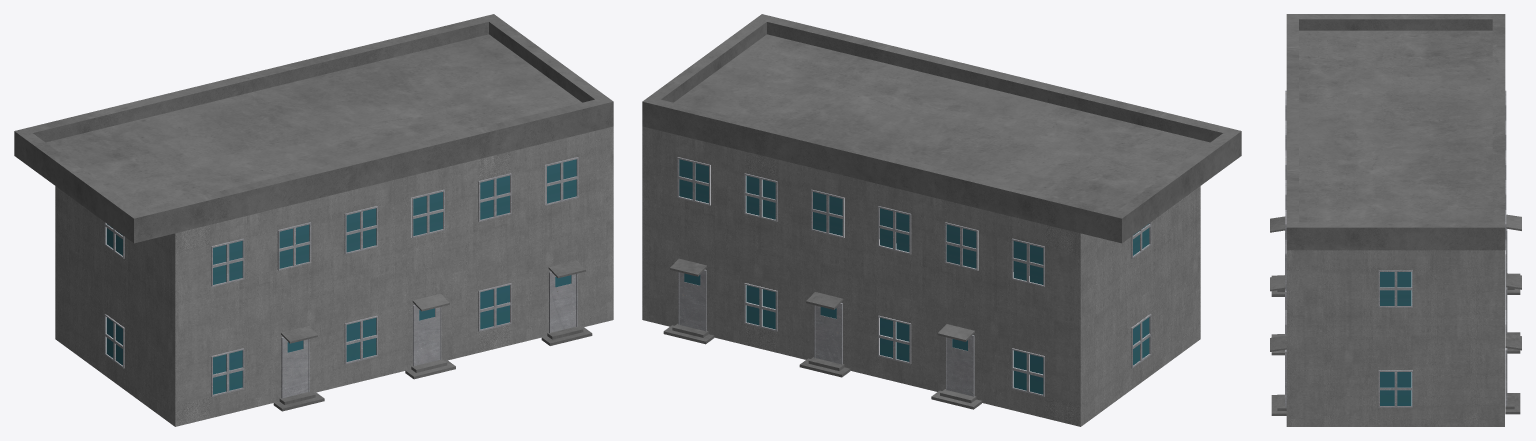
Rendered from 电控楼.glb.
3 views of the same model, side by side, from view 1: azimuth 30°, elevation 25°; view 2: azimuth 150°, elevation 25°; view 3: azimuth 270°, elevation 25° (orthographic). The views are drawn at different scales.
Visible parts, largest first — view 1: 电控楼01, 电控楼00, 电控楼02, 电控楼03; view 2: 电控楼01, 电控楼00, 电控楼02, 电控楼03; view 3: 电控楼00, 电控楼01, 电控楼02, 电控楼03.
Part boxes in pixels (x1,y1,x2,y2): 电控楼01: (55,126,613,426); 电控楼00: (14,14,613,411); 电控楼02: (104,157,578,398); 电控楼03: (106,159,576,394); 电控楼01: (642,126,1200,426); 电控楼00: (642,14,1241,409); 电控楼02: (677,157,1151,396); 电控楼03: (679,159,1149,394); 电控楼00: (1270,14,1521,415); 电控楼01: (1286,250,1504,426); 电控楼02: (1285,90,1507,407); 电控楼03: (1380,272,1411,405).
Bounding box in the file's own units: 20.41 × 8.96 × 10.14.
4 materials, 4 textured.
